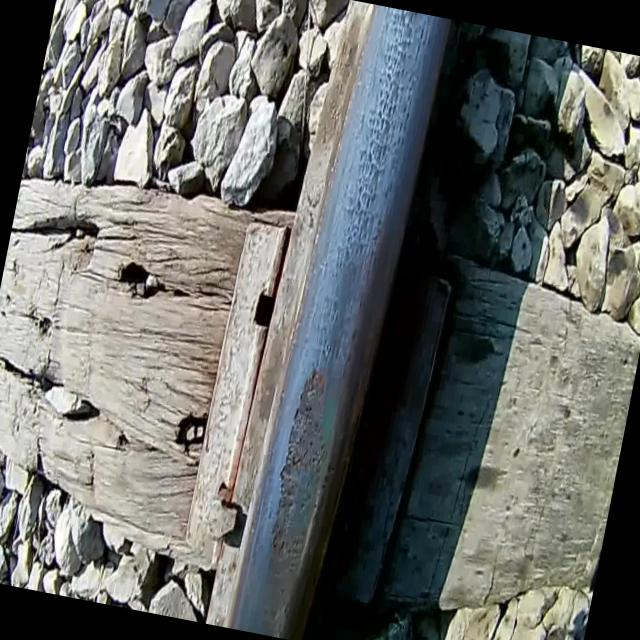Squats: (245, 357, 350, 640)
